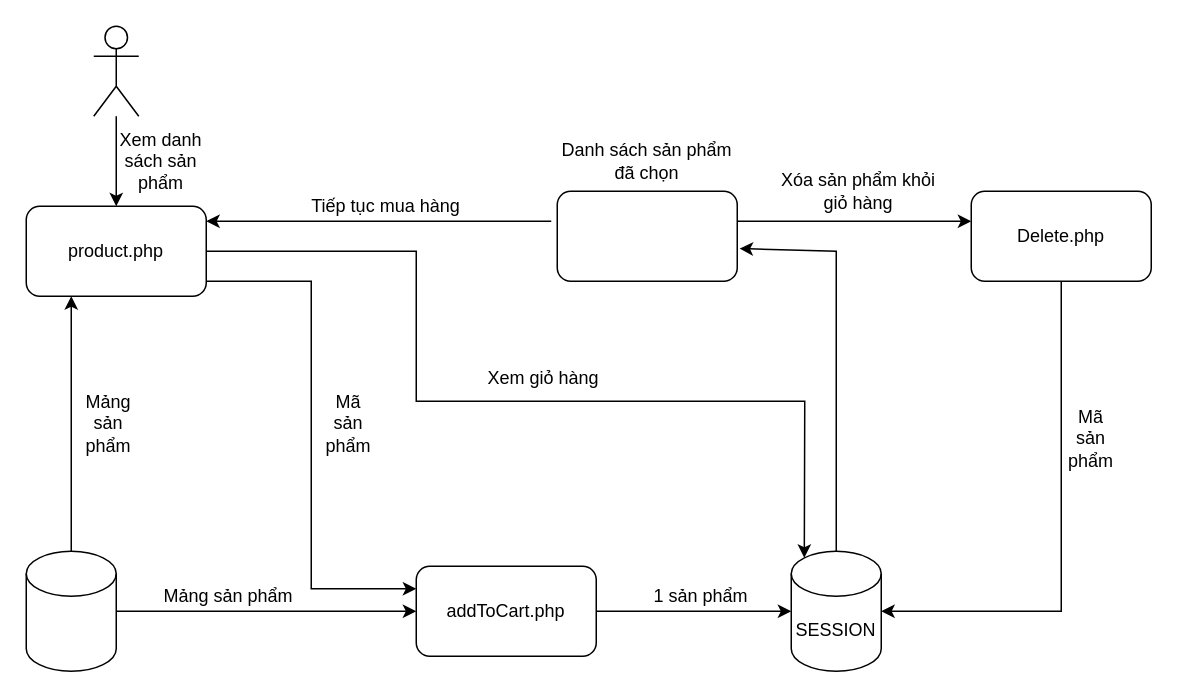
Some shapes in this 1178 by 698 pixel diagram are drawn without their labels. Here are the shapes that lost their labels. From the top down, the centre of each, then its label:
At (646,235): "cart.php".
At (70,610): "data.php".
